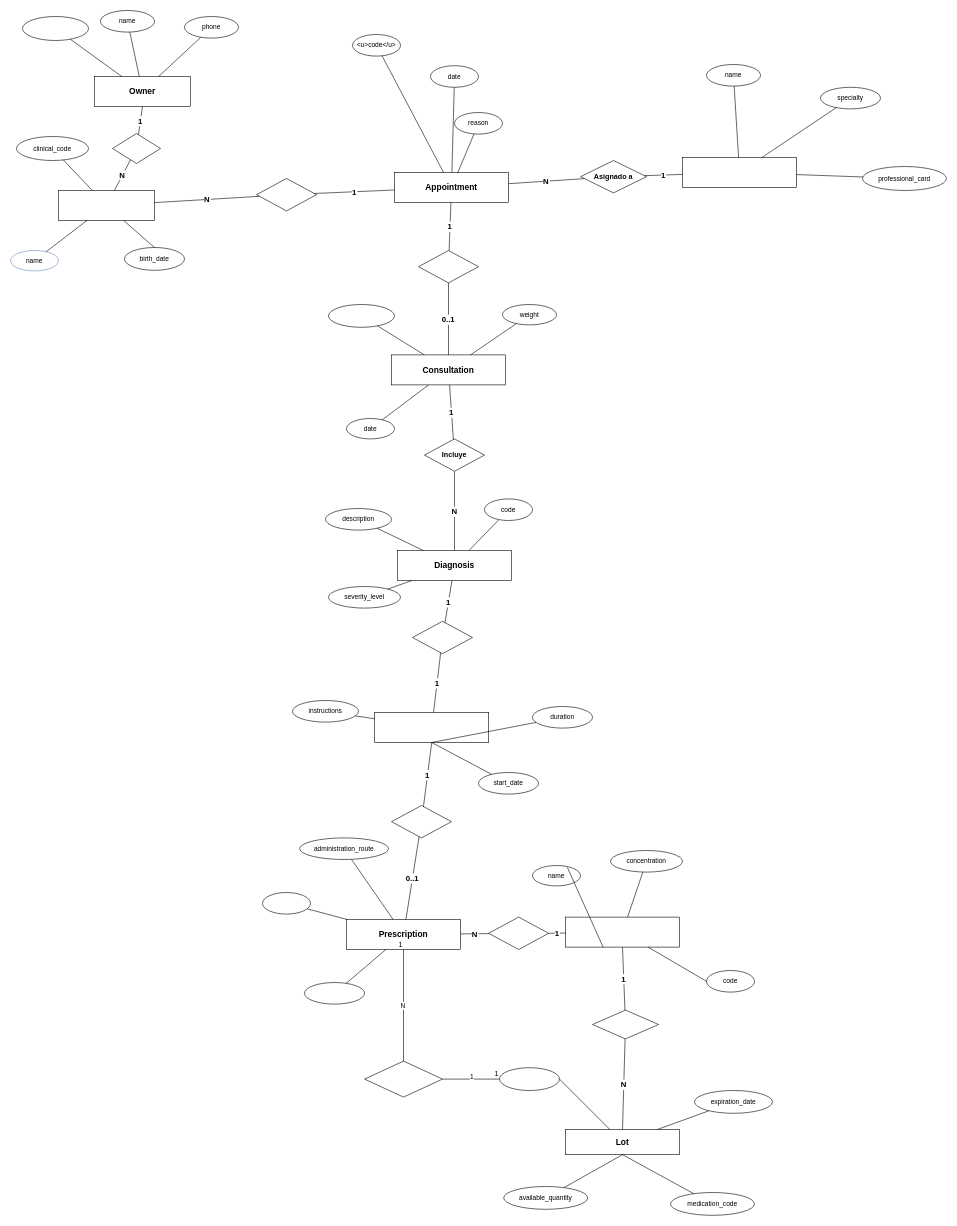
The diagram is 957 pixels wide and 1226 high, and some of its shapes have lost their labels. The box of each missing label's shape, as (x1, y1, x2, y2) in pixels:
Agenda: (256, 178, 316, 211)
document: (22, 16, 88, 40)
dose: (262, 892, 310, 914)
frequency: (304, 982, 364, 1004)
Genera: (418, 250, 478, 283)
lot_number: (499, 1067, 560, 1090)
Medication: (565, 916, 680, 947)
Origina: (412, 621, 472, 654)
Pet: (58, 190, 154, 220)
Produce: (391, 805, 452, 838)
Referencia: (364, 1060, 442, 1097)
sequential: (328, 304, 394, 327)
Tiene: (112, 133, 160, 164)
Tiene lotes: (592, 1010, 658, 1039)
Treatment: (374, 712, 489, 742)
Usa: (488, 916, 549, 950)
Veterinarian: (682, 157, 796, 188)
